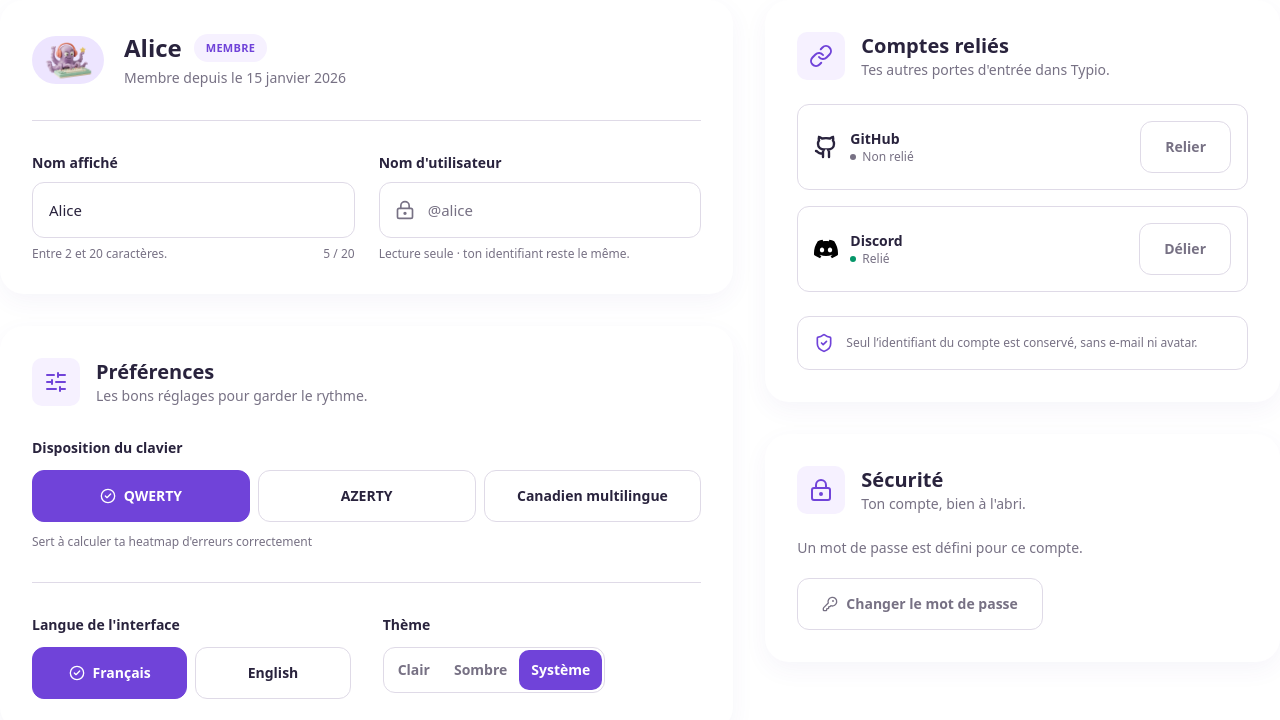
Test: ProfileForm (fr) › envoie la disposition cmf (valeur de la base) et rien d'autre que les trois réglages
The width and height of the screenshot is (1280, 720).
Click the radio button labelled "Canadien multilingue" at (592, 496), box [484,470,701,522]
(page scrolled)
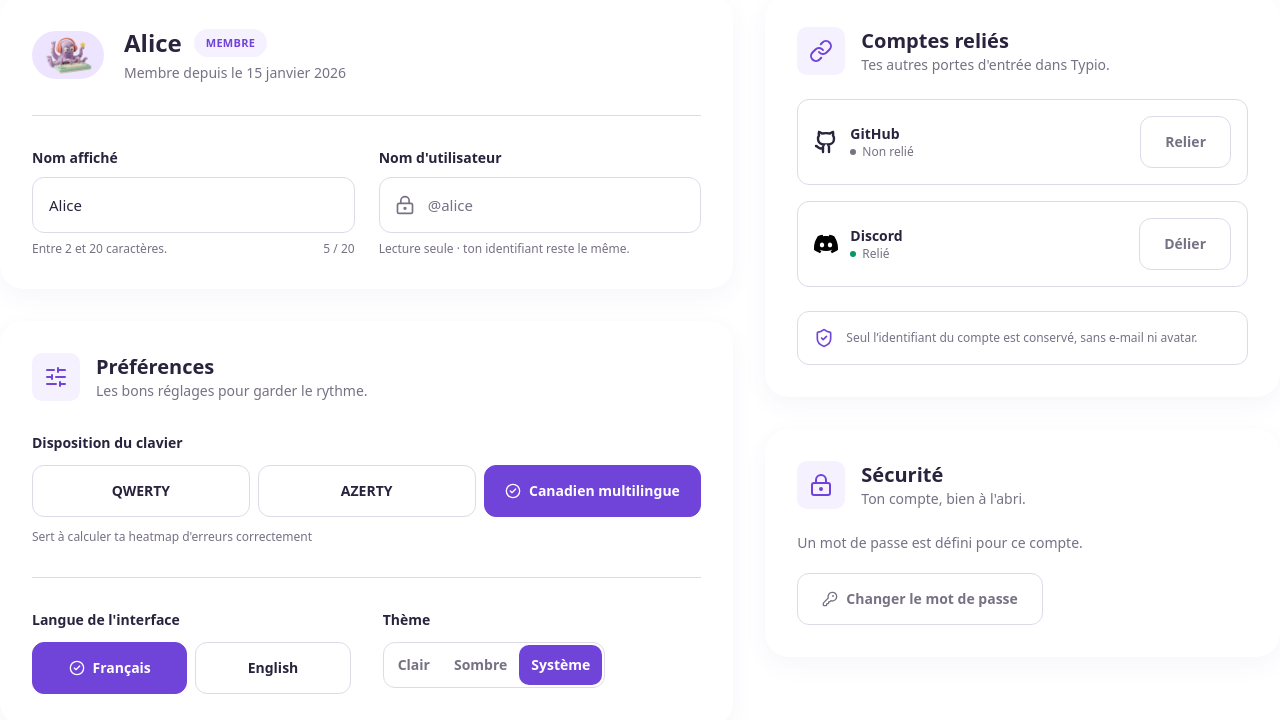
Submit the form "Nom affiché"
(page scrolled)
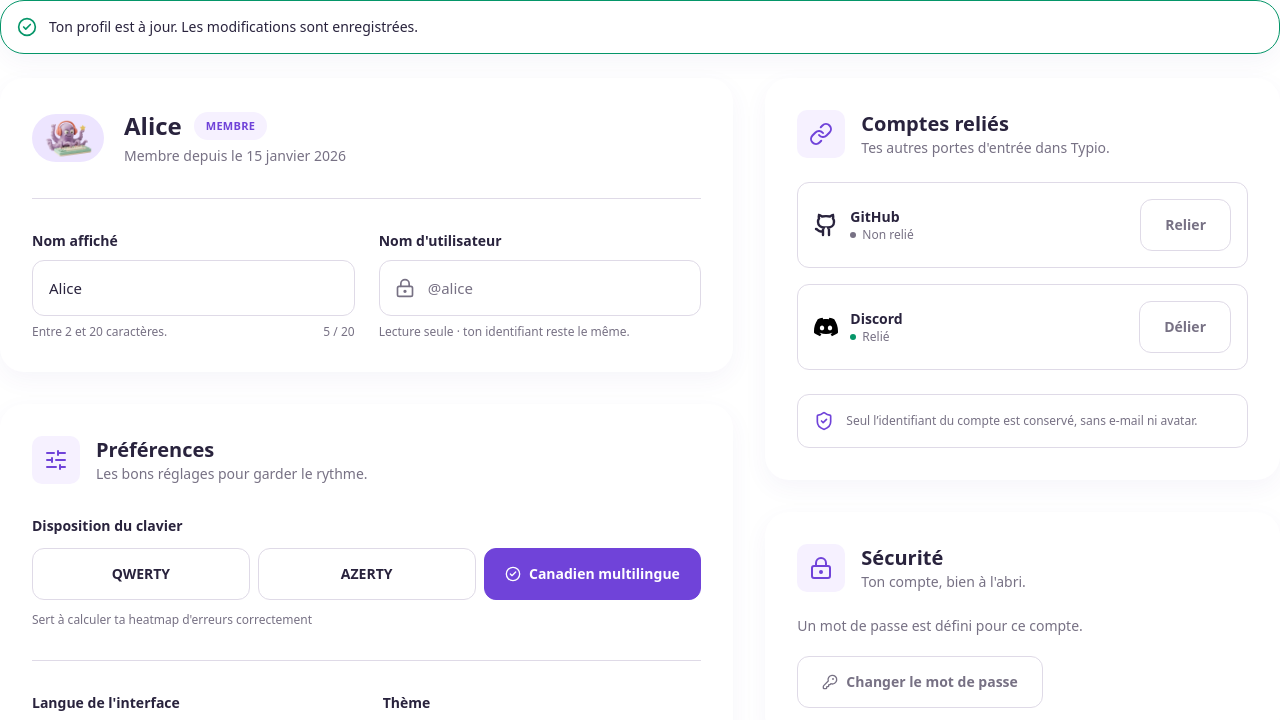
Now the text "Ton profil est à jour. Les modifications sont enregistrées." is shown, box [49,17,418,37]
